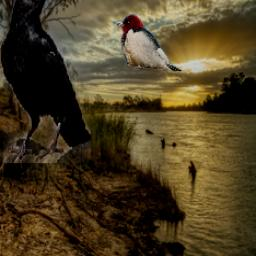Crow: (1, 0, 92, 163)
Woodpecker: (113, 14, 184, 71)
